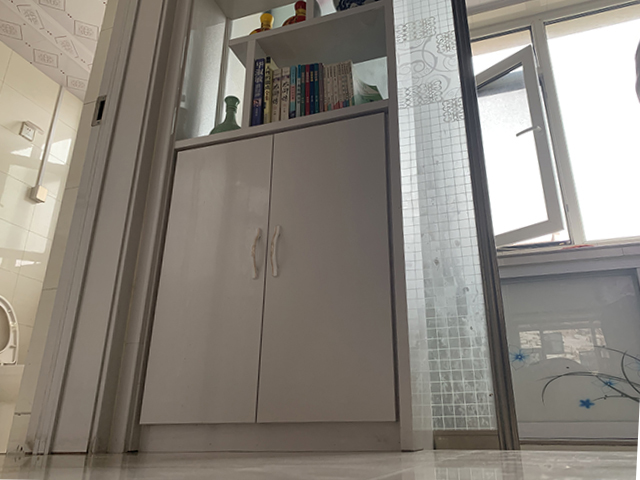cabinet: (132, 111, 414, 456)
